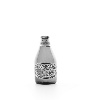beer: (31, 33, 64, 96)
